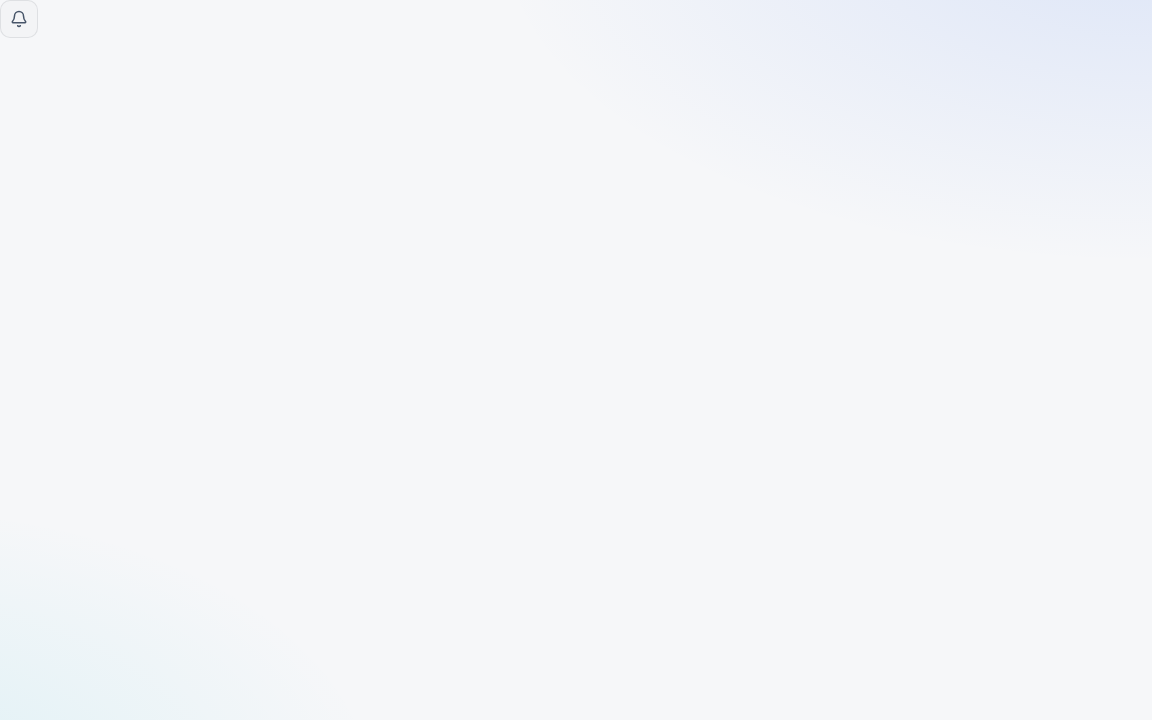
Test: NotificationBell › oculta el contador y muestra el estado al día cuando no hay pendientes
Click the button titled "Notificaciones".
click(19, 19)  # box [0, 0, 38, 38]
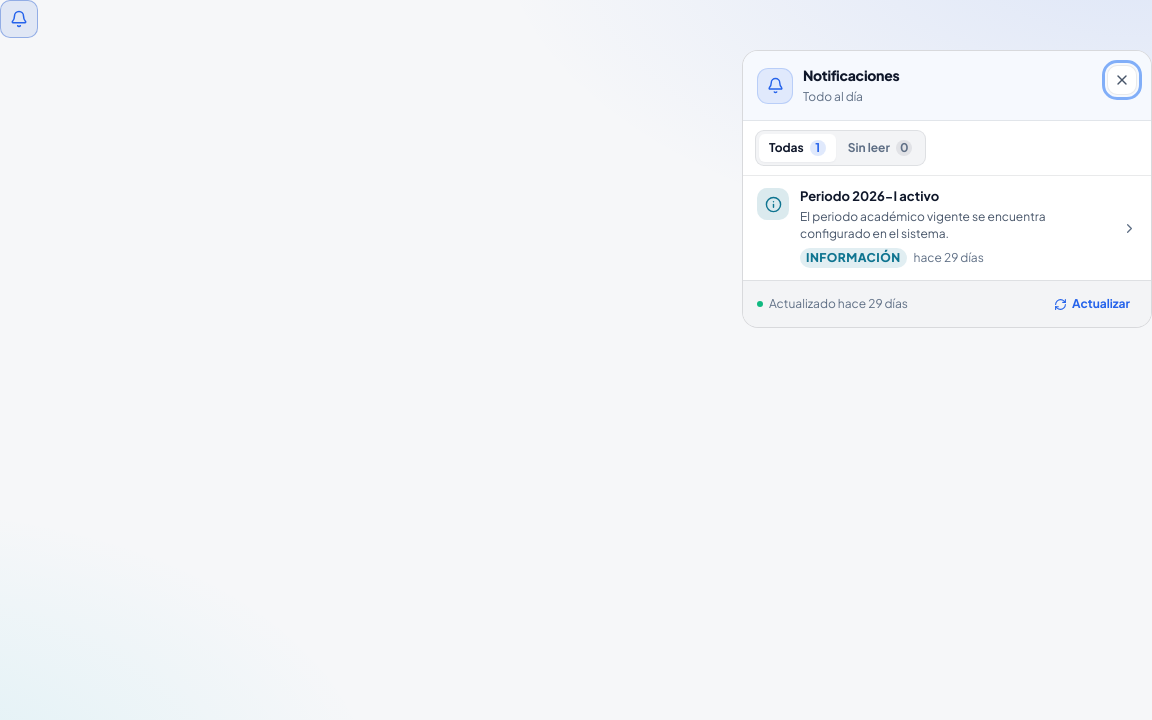
Expected: the text "Todo al día" is shown, [803, 89, 863, 104]
